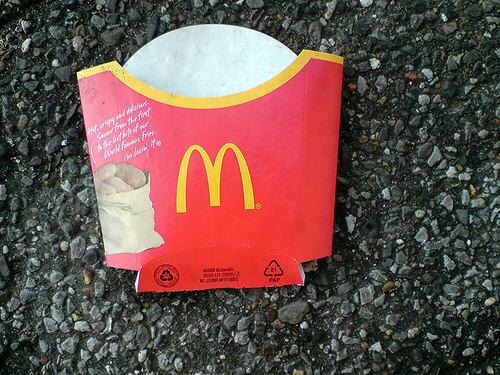litter: (78, 22, 343, 291)
